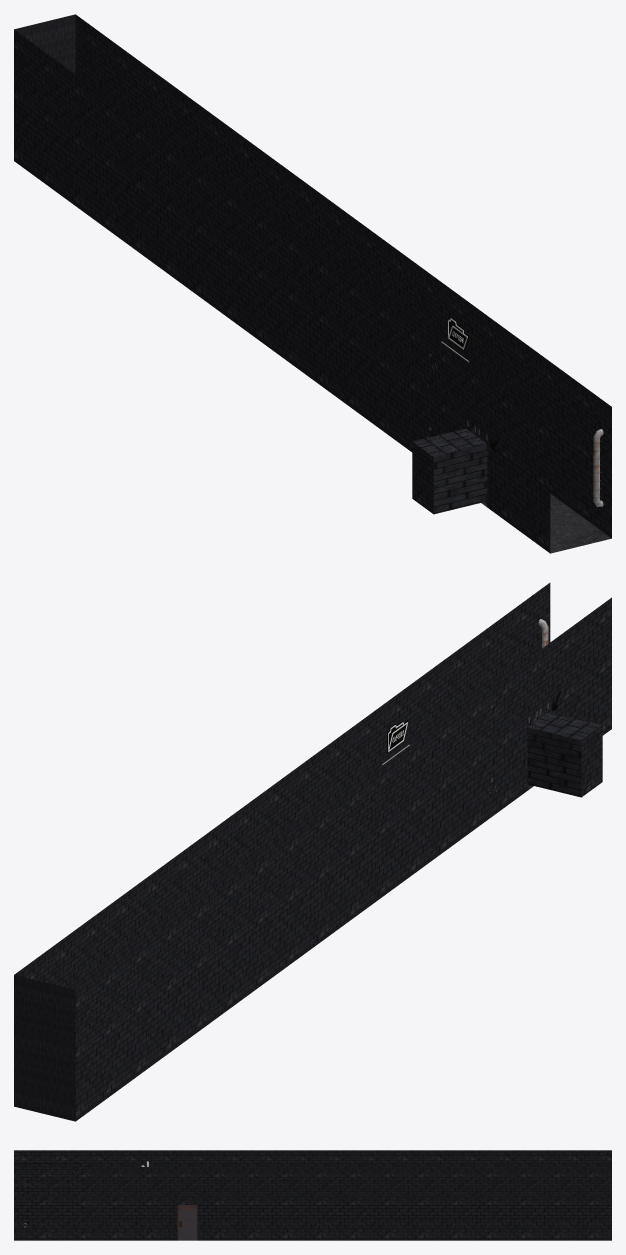
The model's file is TitleScreen_Model_20251117.fbx.
The picture shows the model from 3 angles, top to bottom: view 1: azimuth 30°, elevation 25°; view 2: azimuth 150°, elevation 25°; view 3: azimuth 270°, elevation 25°; orthographic projection. The views are drawn at different scales.
Visible parts, largest first — view 1: Cube; view 2: Cube; view 3: Cube, Cube.004.
Part boxes in pixels (<box>): Cube: <box>14,14,611,553</box>; Cube: <box>14,582,611,1121</box>; Cube: <box>14,1150,611,1240</box>; Cube.004: <box>177,1205,197,1240</box>.
Size of the model in its own units: 1240 by 1341 by 9900.
